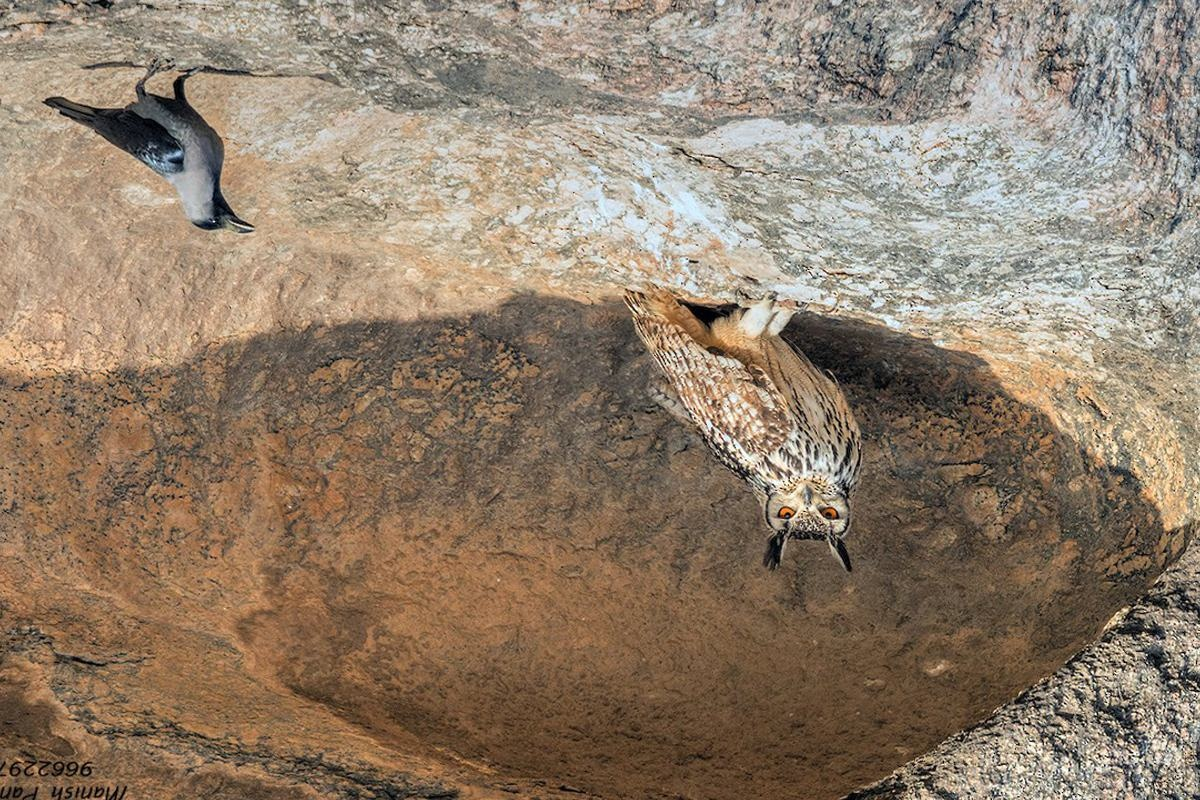crow: (38, 60, 262, 241)
